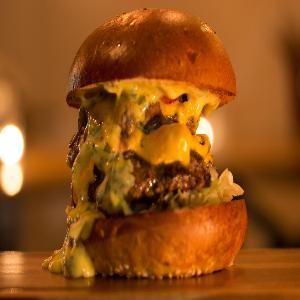cheeseburger: (57, 9, 250, 289)
